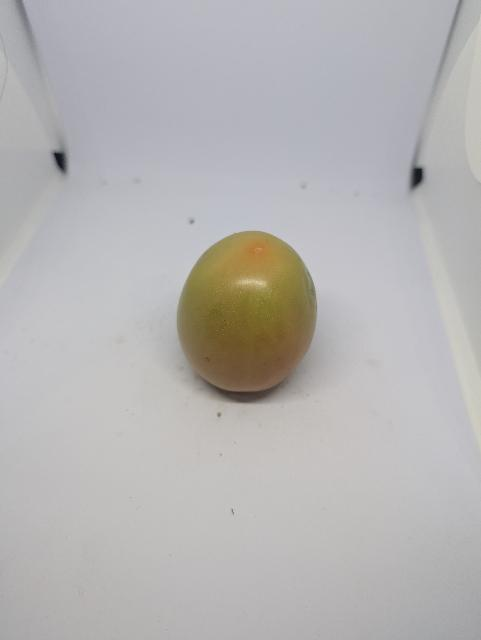breaker: (173, 223, 317, 399)
